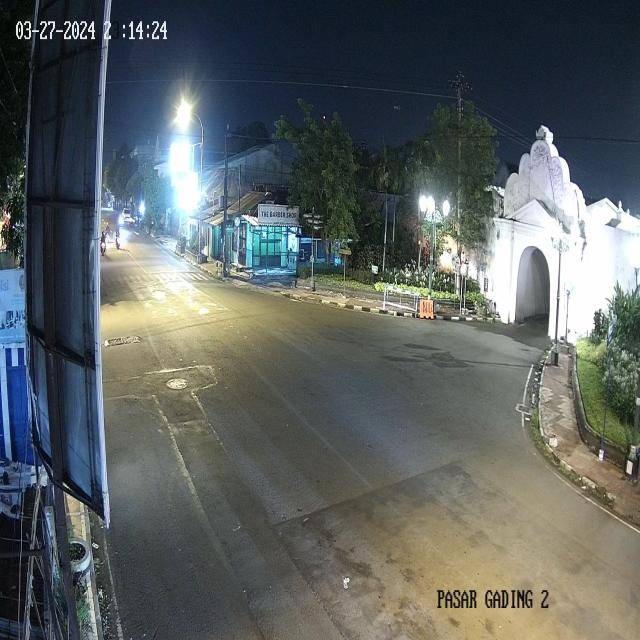car: (122, 206, 132, 222)
motorcycle: (100, 231, 106, 260), (115, 227, 121, 250), (105, 222, 111, 245)
